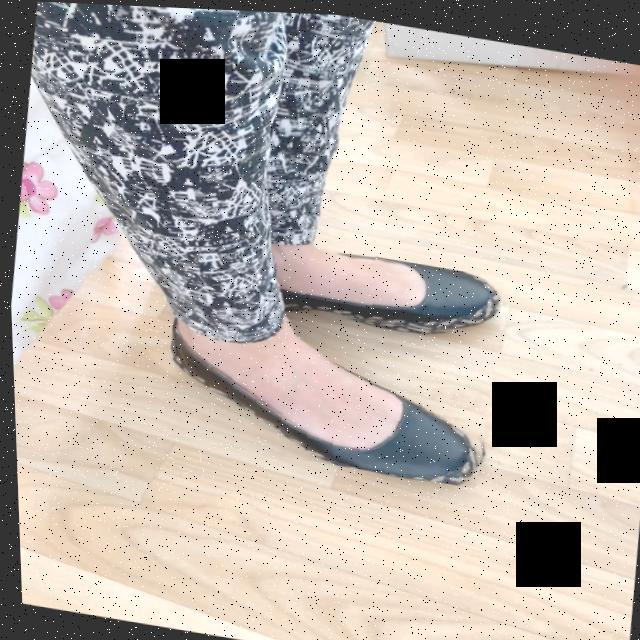shoe: (168, 318, 477, 480), (271, 242, 499, 327)
